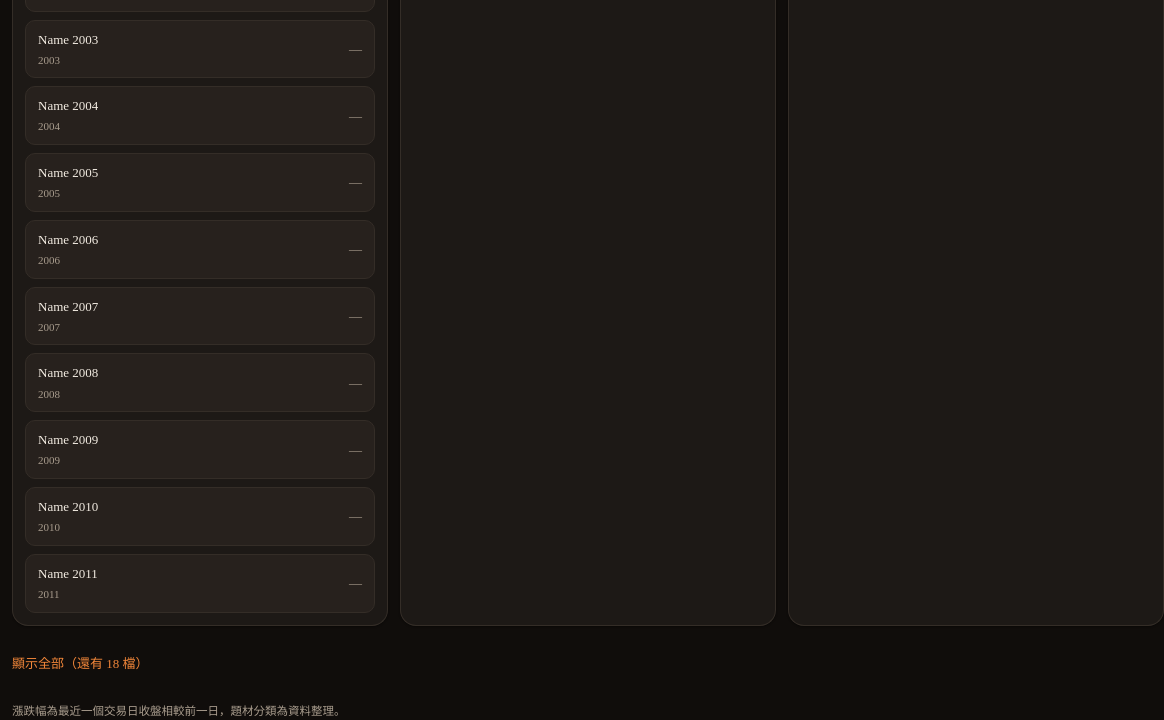
it: ThemePage › asks for quotes for a bounded sample until the reader shows all
(page scrolled)
Click the button "顯示全部（還有 18 檔）" at (80, 664), box 12,642 -> 148,686
(page scrolled)
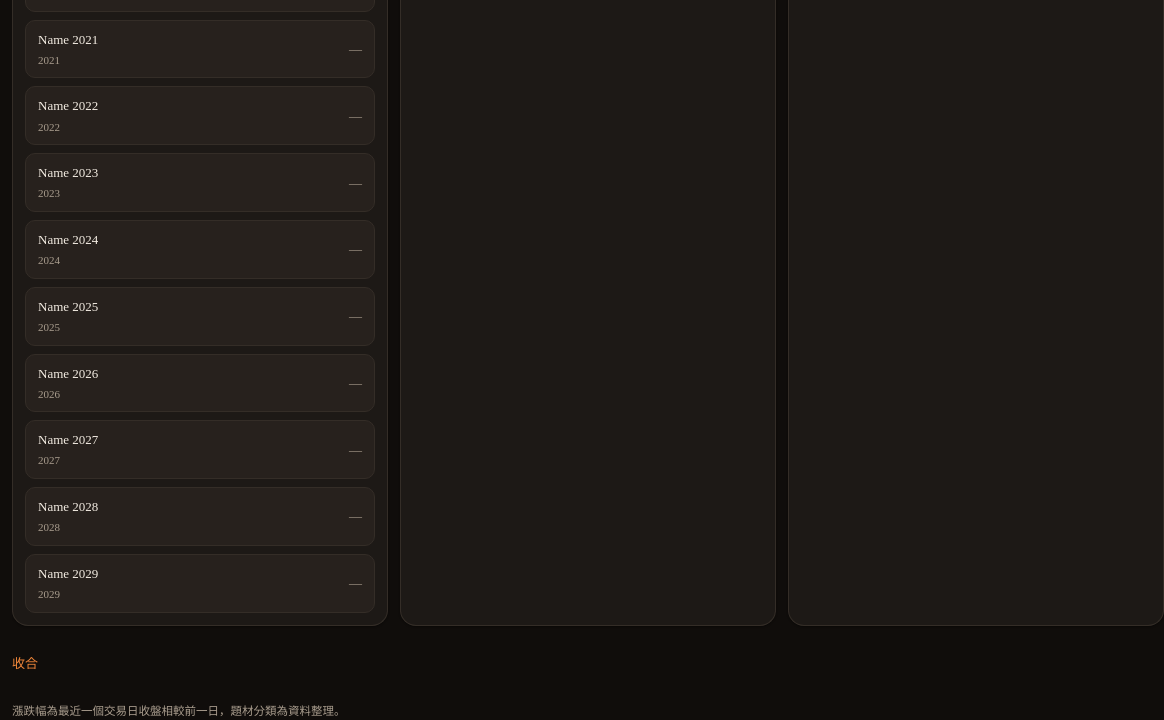
Result: the button "收合" is expanded at 12,642 -> 38,686
